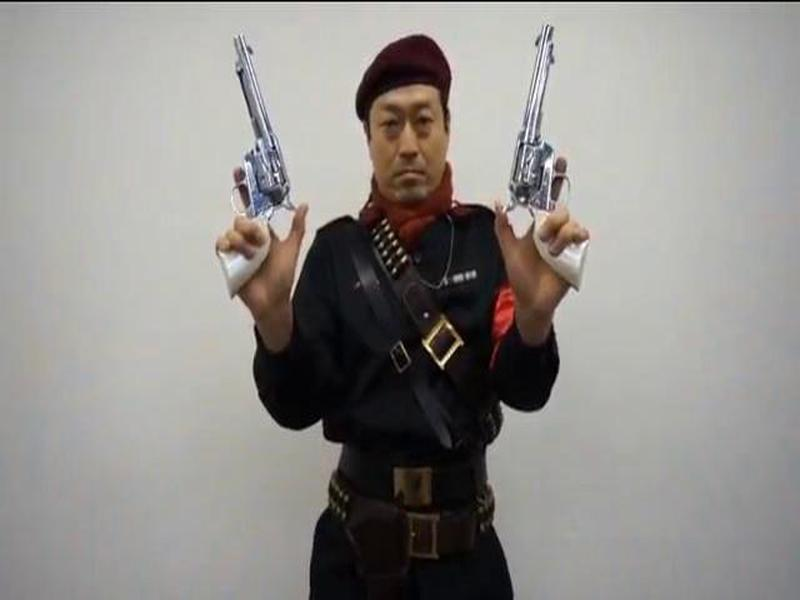Revolver: (199, 23, 309, 302), (512, 11, 607, 298)
